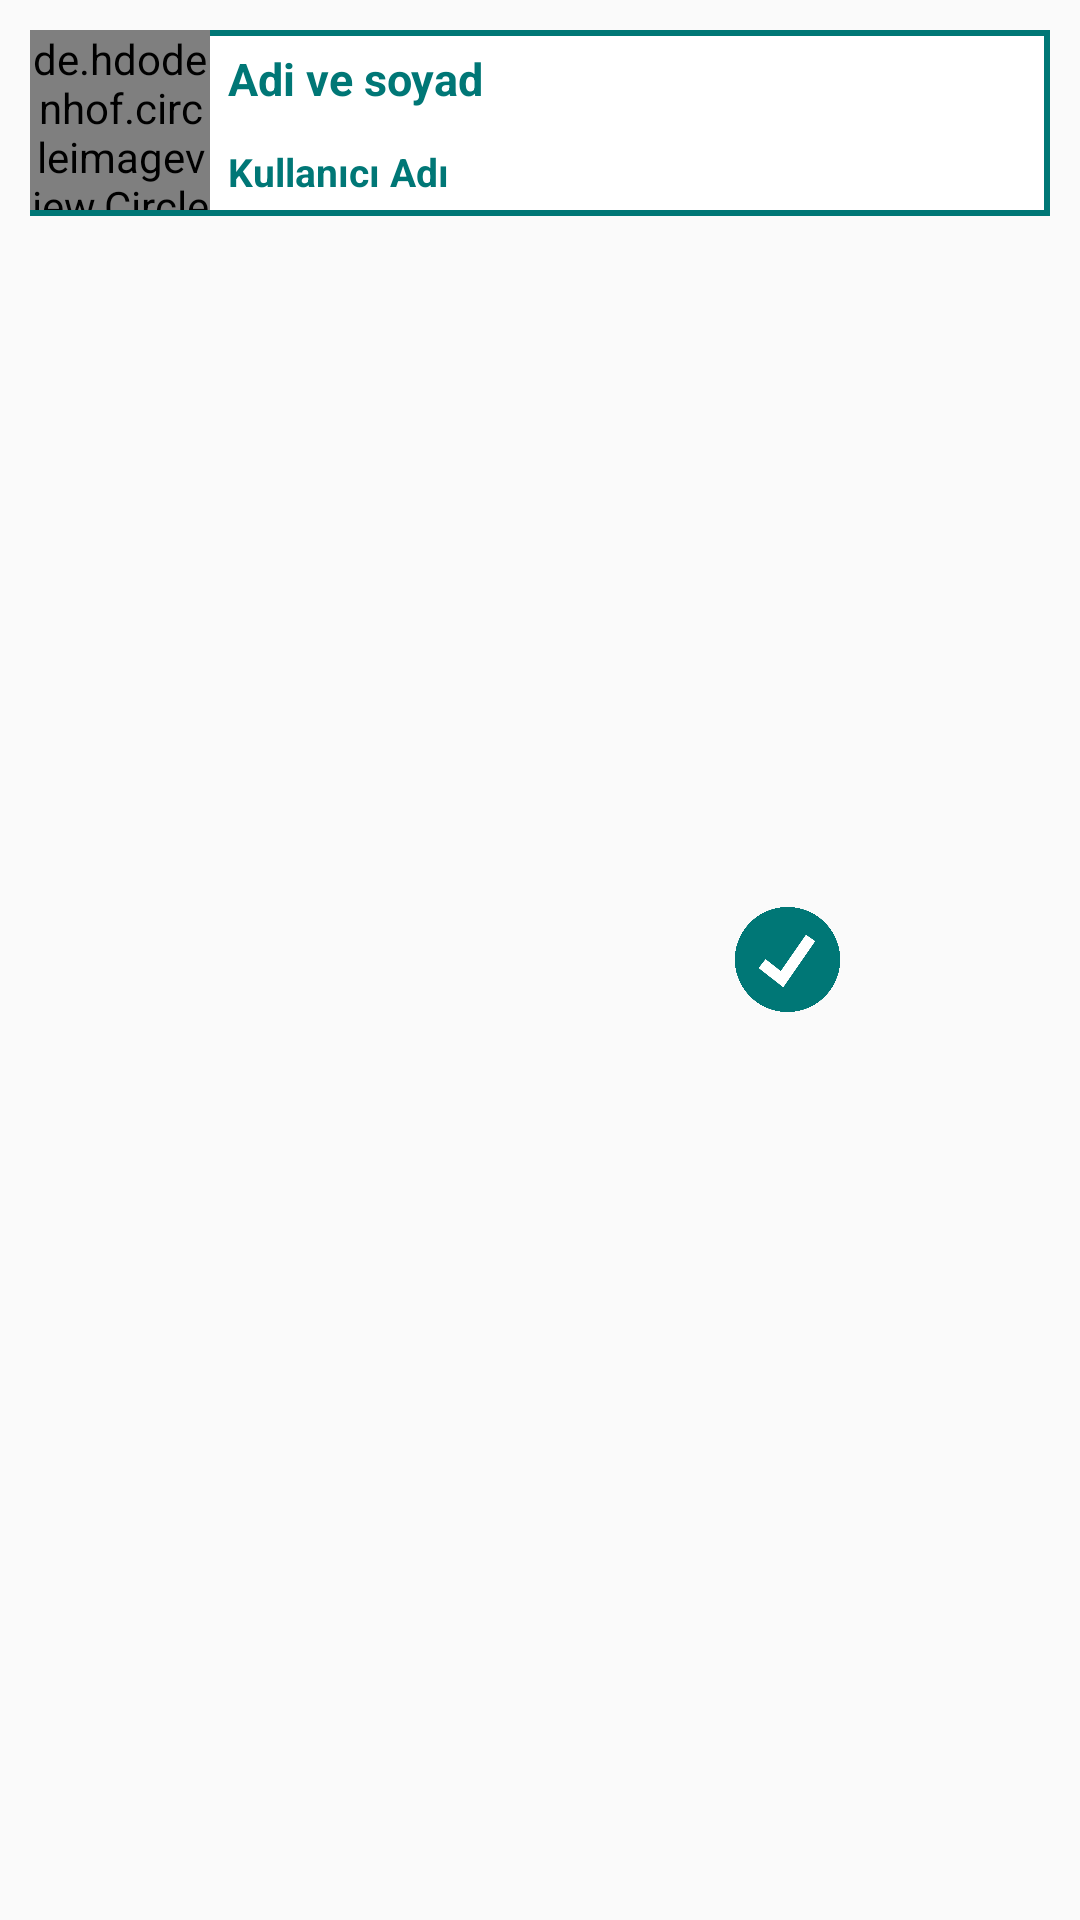

Screen size 1080px x 1920px. Icon name, then its center in pixels as point (x, y):
tick: point (787, 959)
